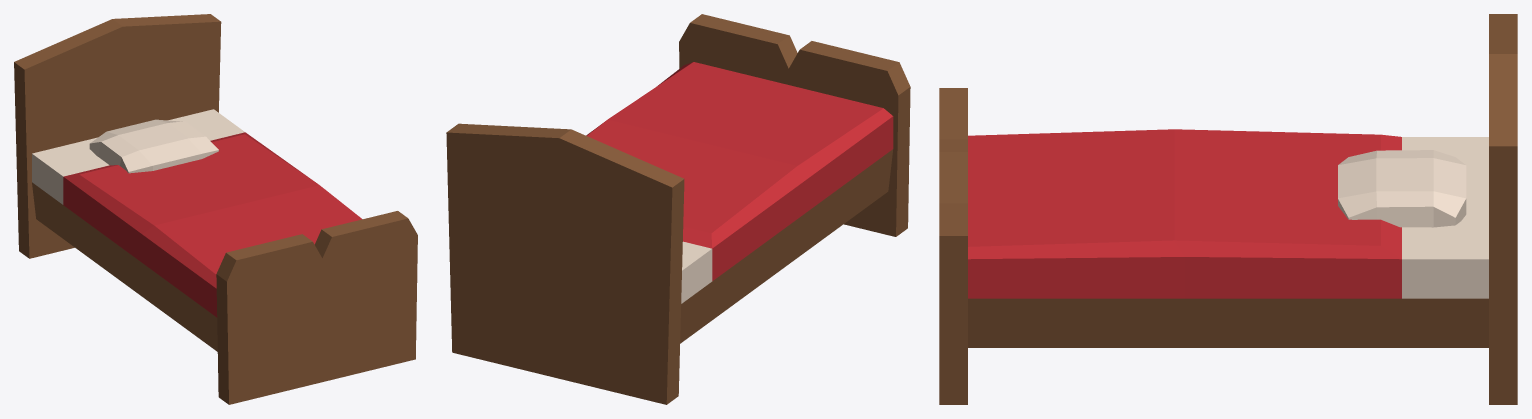
Rendered from bed-wood.glb.
3 views of the same model, side by side, from view 1: azimuth 30°, elevation 25°; view 2: azimuth 150°, elevation 25°; view 3: azimuth 270°, elevation 25° (orthographic). The views are drawn at different scales.
Visible parts, largest first — view 1: bed-wood; view 2: bed-wood; view 3: bed-wood.
Boxes of the visible parts, left/top/right/bottom form: bed-wood: left=14, top=14, right=417, bottom=404; bed-wood: left=446, top=14, right=910, bottom=404; bed-wood: left=939, top=14, right=1517, bottom=404.
Bounding box in the file's own units: 1.08 × 1.1 × 2.
1 material, 1 textured.
